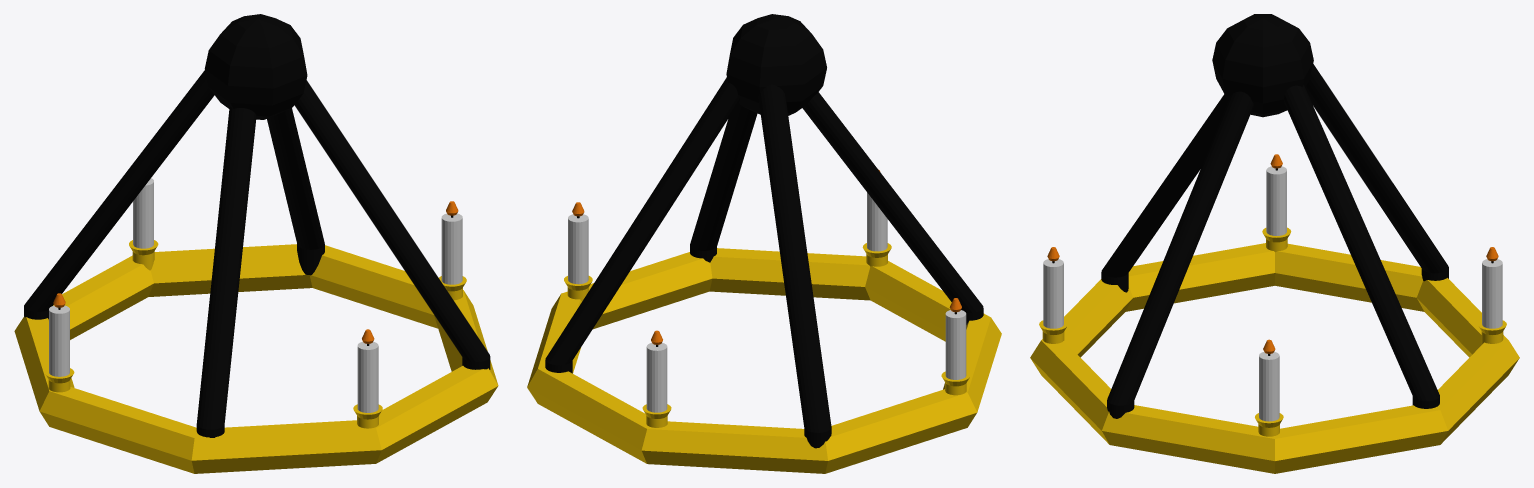
The model's file is klights.fbx.
3 views of the same model, side by side, from view 1: azimuth 30°, elevation 25°; view 2: azimuth 150°, elevation 25°; view 3: azimuth 270°, elevation 25° (orthographic). The views are drawn at different scales.
Visible parts, largest first — view 1: pSphere2; view 2: pSphere2; view 3: pSphere2.
Part boxes in pixels (x1,y1,x2,y2): pSphere2: [14, 14, 498, 473]; pSphere2: [527, 14, 1001, 473]; pSphere2: [1030, 14, 1519, 473].
Size of the model in its own units: 2.2 by 1.76 by 2.2.
